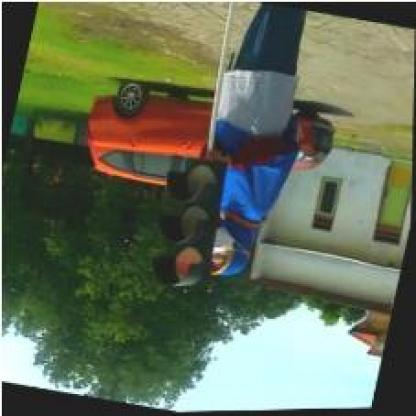red: (147, 155, 231, 292)
